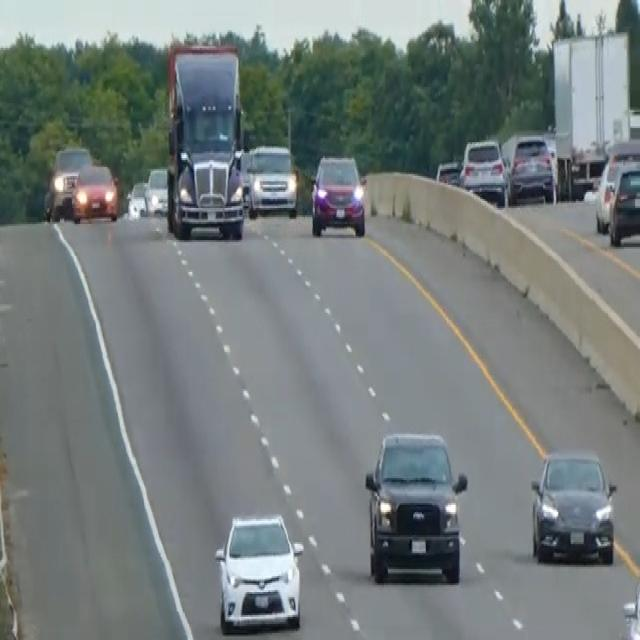car: (213, 510, 304, 633), (529, 446, 617, 566), (309, 151, 367, 237), (246, 142, 298, 219), (505, 132, 556, 204), (45, 142, 91, 219), (459, 135, 508, 206), (71, 160, 118, 222), (607, 158, 639, 245), (145, 165, 169, 215), (125, 180, 148, 218), (435, 156, 462, 186)
jeep: (363, 427, 468, 585)
lorry: (164, 37, 248, 240)
